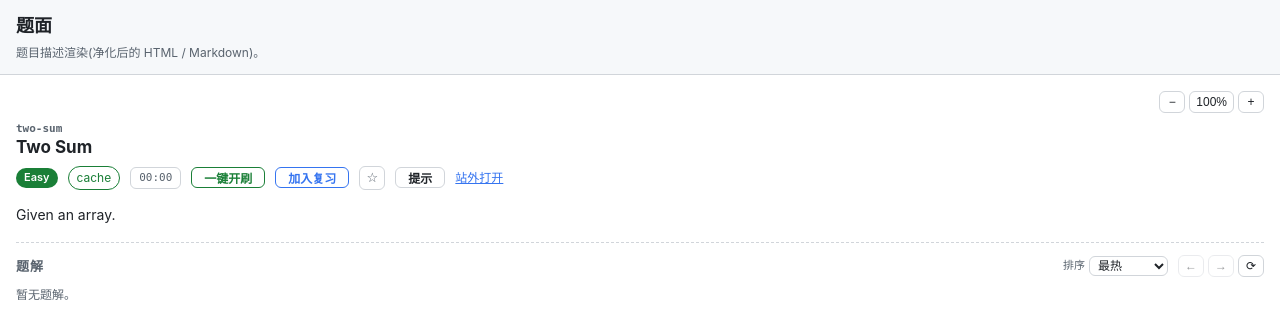
Test: problem-view favorite star (WP73) › starts neutral (hollow star) without local memory and toggles optimistically to solid on click
The image size is (1280, 317).
Click the button with class "statement-header__fav".
click(372, 178)  # box left=359, top=166, right=385, bottom=190
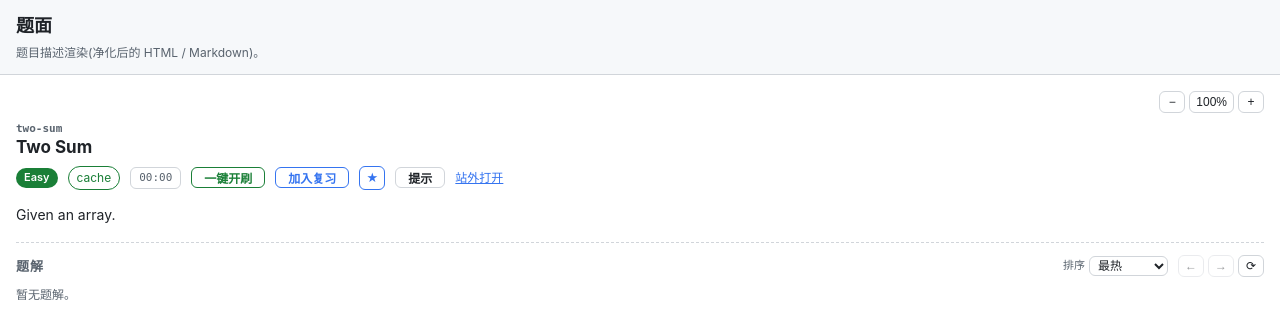
Now the button with class "statement-header__fav" reads "★", box left=359, top=166, right=385, bottom=190
